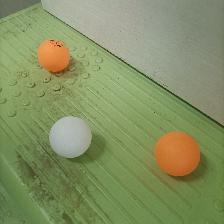WhiteBall: (47, 115, 91, 158)
YellowBall: (155, 132, 199, 175), (36, 39, 69, 71)
